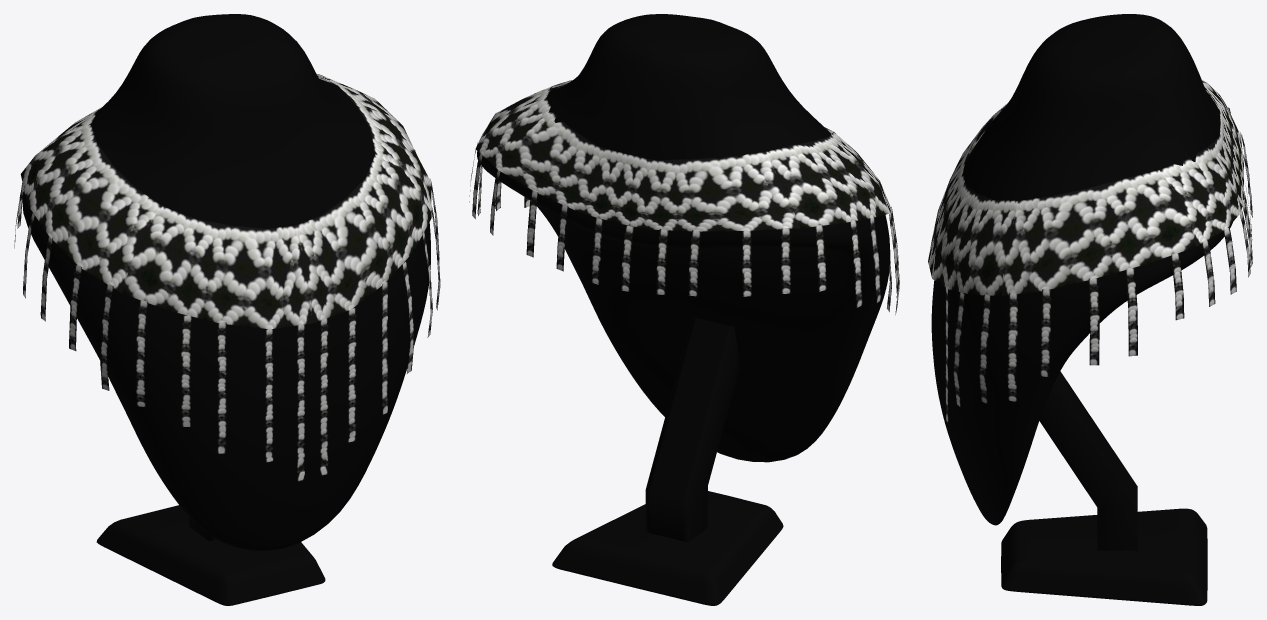
The model's file is necklace14.glb.
3 views of the same model, side by side, from view 1: azimuth 30°, elevation 25°; view 2: azimuth 150°, elevation 25°; view 3: azimuth 270°, elevation 25° (orthographic). The views are drawn at different scales.
Parts seen in each view (by area): view 1: Cube, Mesh_Cube_0; view 2: Cube, Mesh_Cube_0; view 3: Cube, Mesh_Cube_0.
Boxes of the visible parts, x1=… form: Cube: x1=22, y1=14, x2=430, y2=605; Mesh_Cube_0: x1=14, y1=74, x2=440, y2=481; Cube: x1=477, y1=14, x2=890, y2=605; Mesh_Cube_0: x1=469, y1=80, x2=899, y2=314; Cube: x1=931, y1=14, x2=1232, y2=605; Mesh_Cube_0: x1=928, y1=80, x2=1252, y2=422.
Bounding box in the file's own units: 139 × 183 × 101.
Materials: 1 (1 with a texture image).
